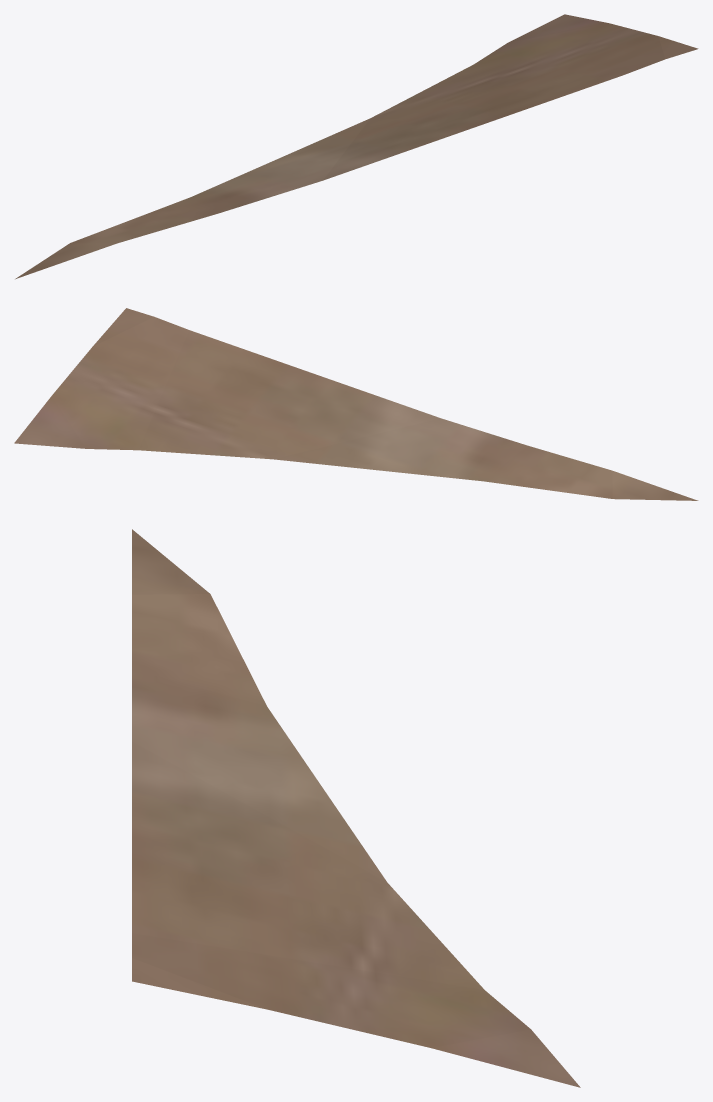
The picture shows the model from 3 angles, top to bottom: view 1: azimuth 30°, elevation 25°; view 2: azimuth 150°, elevation 25°; view 3: azimuth 270°, elevation 25°; orthographic projection. The views are drawn at different scales.
Size of the model in its own units: 0.2113 by 0.0188 by 0.0718.
Materials: 1 (1 with a texture image).
